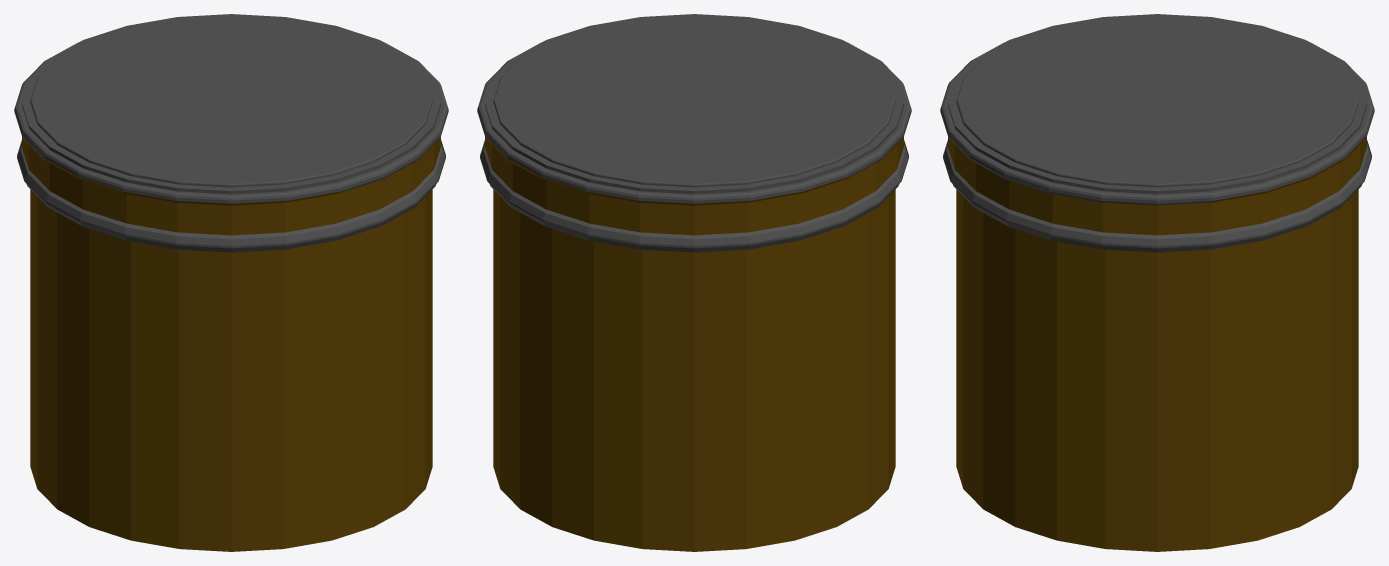
File: toples_Scene.fbx
The picture shows the model from 3 angles, left to right: view 1: azimuth 30°, elevation 25°; view 2: azimuth 150°, elevation 25°; view 3: azimuth 270°, elevation 25°; orthographic projection.
Visible parts, largest first — view 1: Cylinder.008; view 2: Cylinder.008; view 3: Cylinder.008.
Boxes of the visible parts, bbox=[...] form: Cylinder.008: bbox=[14, 14, 448, 551]; Cylinder.008: bbox=[477, 14, 911, 551]; Cylinder.008: bbox=[940, 14, 1374, 551].
Bounding box in the file's own units: 65.36 × 61.03 × 65.36.
